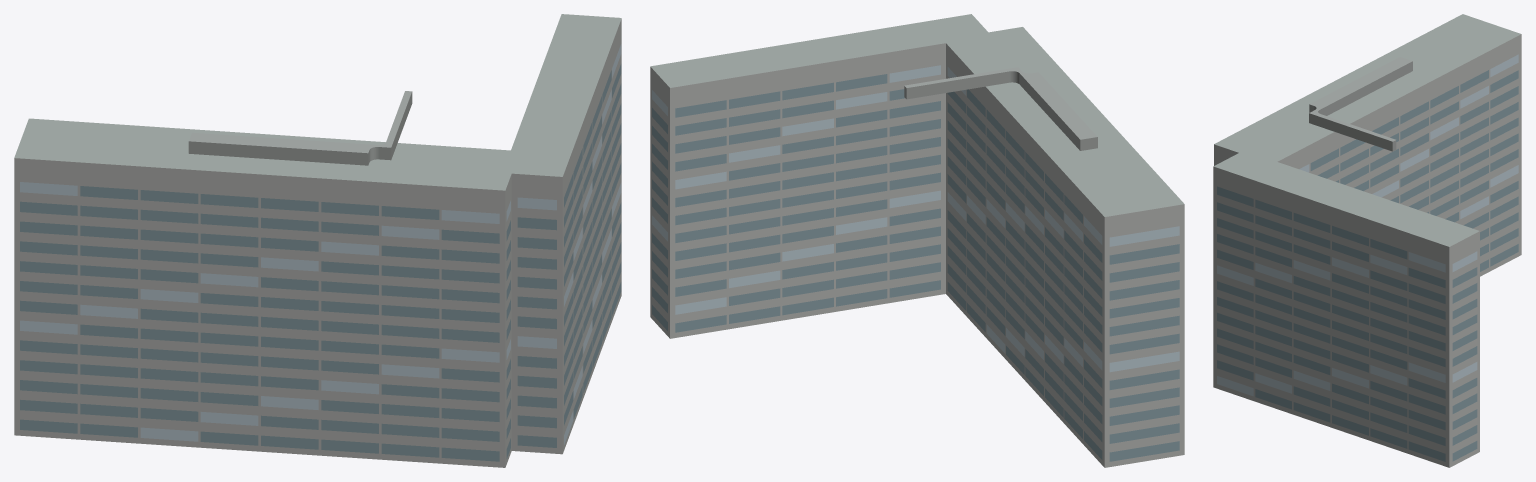
File: apt-a13790730.glb
3 renders of one model, left to right at view 1: azimuth 30°, elevation 25°; view 2: azimuth 150°, elevation 25°; view 3: azimuth 270°, elevation 25°, orthographic. The views are drawn at different scales.
Parts seen in each view (by area): view 1: apt-a13790730; view 2: apt-a13790730; view 3: apt-a13790730.
Boxes of the visible parts, x1=… form: apt-a13790730: x1=14, y1=14, x2=621, y2=467; apt-a13790730: x1=650, y1=14, x2=1184, y2=467; apt-a13790730: x1=1213, y1=14, x2=1521, y2=467.
Bounding box in the file's own units: 96.58 × 44.63 × 53.99.
